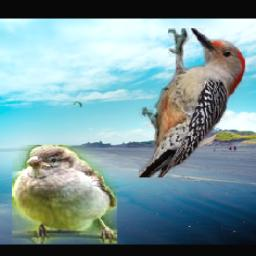Sparrow: (13, 145, 118, 244)
Woodpecker: (139, 29, 245, 178)
